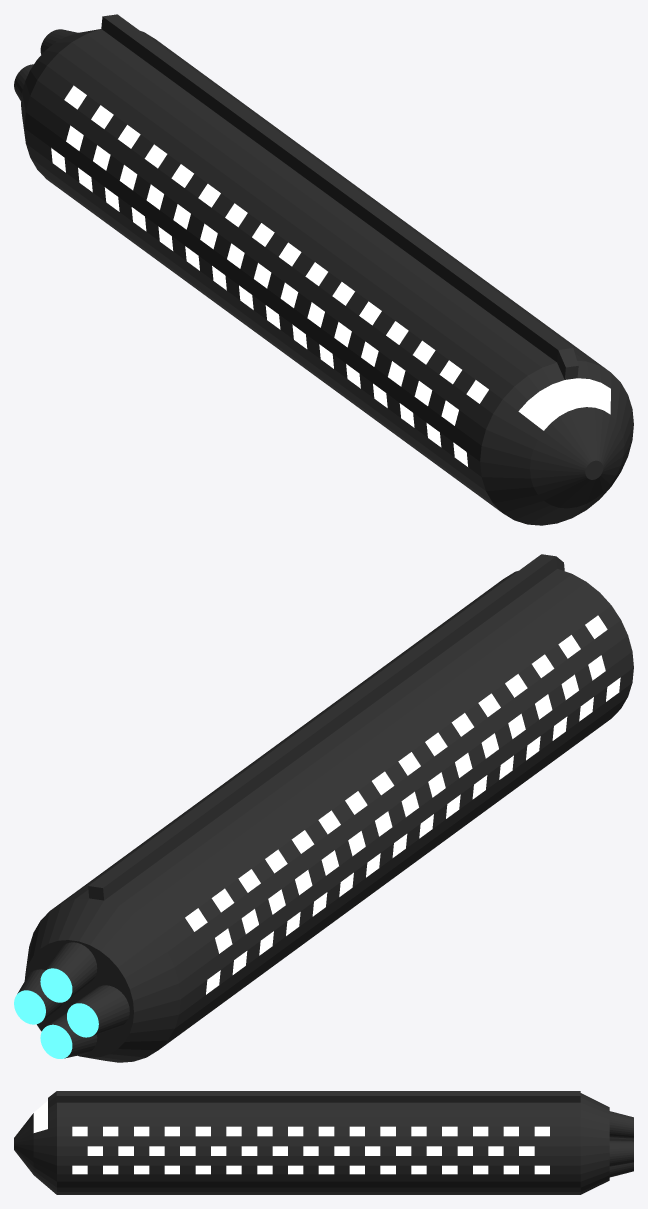
Rendered from radical_spaceship_3-262e2a8f.glb.
3 renders of one model, top to bottom at view 1: azimuth 30°, elevation 25°; view 2: azimuth 150°, elevation 25°; view 3: azimuth 270°, elevation 25°, orthographic. The views are drawn at different scales.
Visible parts, largest first — view 1: body, windows; view 2: body, windows, engines, thrust; view 3: body, windows, engines.
Part boxes in pixels (x1,y1,x2,y2): body: [21, 14, 633, 525]; windows: [51, 85, 610, 466]; body: [24, 554, 633, 1062]; windows: [185, 615, 620, 994]; engines: [17, 942, 129, 1058]; thrust: [14, 968, 98, 1058]; body: [14, 1091, 609, 1194]; windows: [33, 1101, 549, 1174]; engines: [609, 1111, 633, 1177].
Bounding box in the file's own units: 2 × 2.15 × 12.14.
